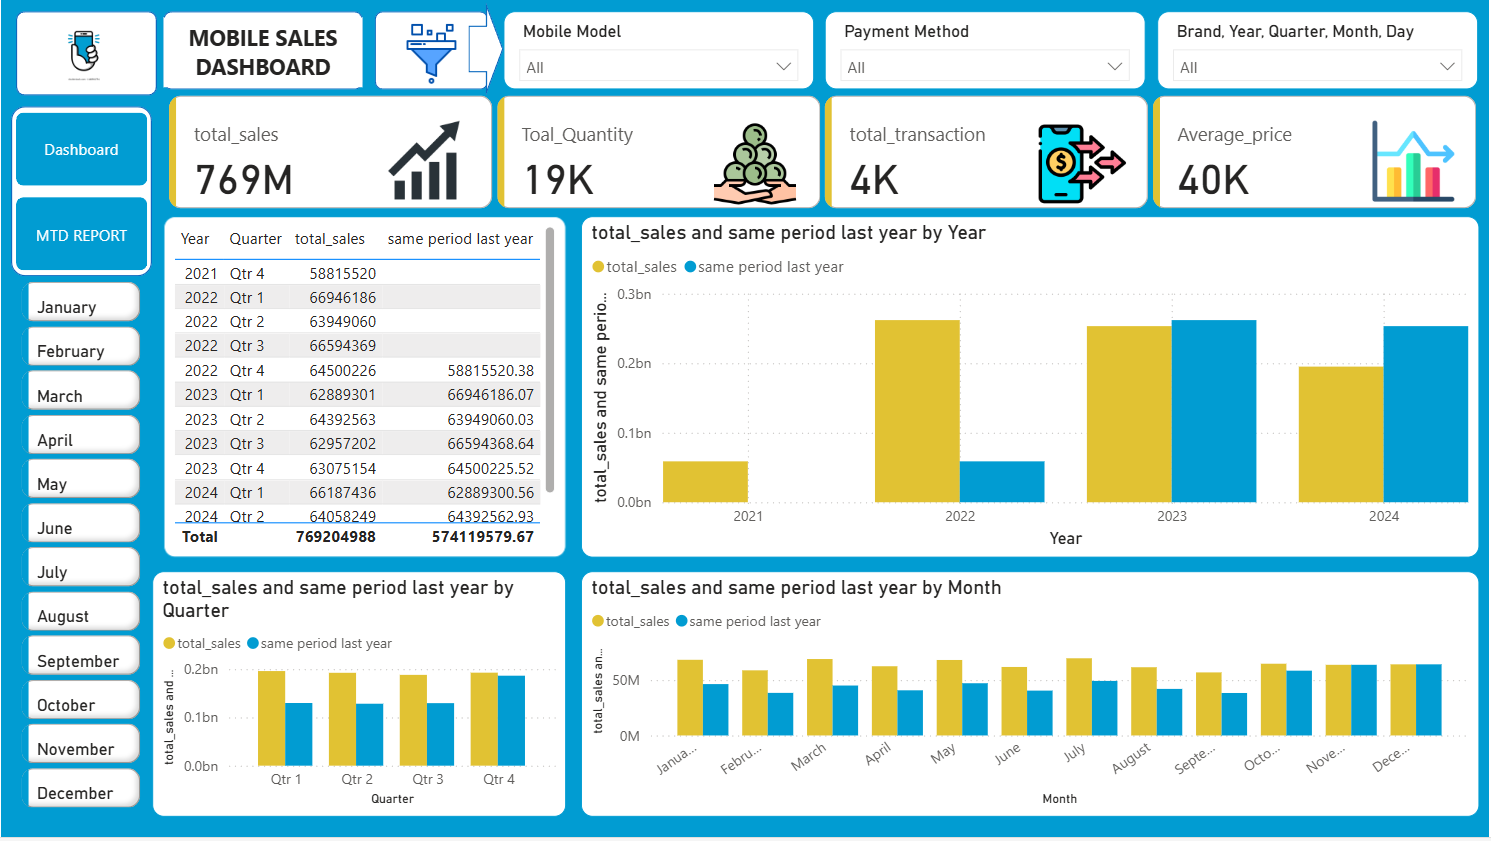

The dashboard page shown, as its layout file describes it:
{"tool":"powerbi","page":{"name":"same period last year","canvas":[1280,720],"ordinal":2},"visuals":[{"type":"shape","box":[12.5,10,121.2,72.5],"z":0},{"type":"image","box":[17.5,16.2,108.8,58.8],"z":1000},{"type":"shape","box":[321.2,10,97.5,67.5],"z":2000},{"type":"cardVisual","fields":{"Data":["mobile sales data.total_sales","mobile sales data.Toal_Quantity","mobile sales data.total_transaction","mobile sales data.Average_price"]},"box":[140,77.5,1137.5,107.5],"z":3000},{"type":"slicer","fields":{"Values":["mobile sales data.Mobile Model"]},"box":[432.5,10,267.5,67.5],"z":4000},{"type":"slicer","fields":{"Values":["mobile sales data.Payment Method"]},"box":[708.8,10,276.2,67.5],"z":5000},{"type":"slicer","fields":{"Values":["mobile sales data.Brand","custom_calender.Date.Variation.Date Hierarchy.Year","custom_calender.Date.Variation.Date Hierarchy.Quarter","custom_calender.Date.Variation.Date Hierarchy.Month","custom_calender.Date.Variation.Date Hierarchy.Day"]},"box":[995,10,276.2,67.5],"z":6000},{"type":"shape","box":[8.8,91.2,121.2,146.2],"z":7000},{"type":"image","box":[321.2,15,97.5,62.5],"z":8000},{"type":"shape","box":[402.5,2.5,30,80],"z":9000},{"type":"shape","box":[140,10,171.2,67.5],"z":10000},{"type":"textbox","box":[140,15,171.2,60],"z":11000},{"type":"advancedSlicerVisual","fields":{"Values":["custom_calender.Date.Variation.Date Hierarchy.Month"]},"box":[12.5,237.5,112.5,463.8],"z":12000},{"type":"tableEx","fields":{"Values":["custom_calender.Date.Variation.Date Hierarchy.Year","custom_calender.Date.Variation.Date Hierarchy.Quarter","mobile sales data.total_sales","mobile sales data.same period last year"]},"box":[140,186.2,346.2,293.8],"z":13000},{"type":"clusteredColumnChart","fields":{"Category":["custom_calender.Date.Variation.Date Hierarchy.Year","custom_calender.Date.Variation.Date Hierarchy.Quarter"],"Y":["mobile sales data.total_sales","mobile sales data.same period last year"]},"box":[498.8,186.2,772.5,293.8],"z":14000},{"type":"clusteredColumnChart","fields":{"Y":["mobile sales data.total_sales","mobile sales data.same period last year"],"Category":["custom_calender.Date.Variation.Date Hierarchy.Year","custom_calender.Date.Variation.Date Hierarchy.Quarter","custom_calender.Date.Variation.Date Hierarchy.Month","custom_calender.Date.Variation.Date Hierarchy.Day"]},"box":[498.8,491.2,772.5,211.2],"z":15000},{"type":"clusteredColumnChart","fields":{"Category":["custom_calender.Date.Variation.Date Hierarchy.Year","custom_calender.Date.Variation.Date Hierarchy.Quarter"],"Y":["mobile sales data.total_sales","mobile sales data.same period last year"]},"box":[130,491.2,356.2,211.2],"z":16000},{"type":"pageNavigator","box":[12.5,96.2,113.8,137.5],"z":16001}]}

Visuals, with their boxes in screenshot pixels (x1, y1, x2, y2), scaled from the page's 1280x720 canvas onto the 1491x841 screenshot:
shape: <region>15, 12, 156, 96</region>
image: <region>20, 19, 147, 88</region>
shape: <region>374, 12, 488, 91</region>
cardVisual - mobile sales data.total_sales x mobile sales data.Toal_Quantity: <region>163, 91, 1488, 216</region>
slicer - mobile sales data.Mobile Model: <region>504, 12, 815, 91</region>
slicer - mobile sales data.Payment Method: <region>826, 12, 1147, 91</region>
slicer - mobile sales data.Brand x custom_calender.Date.Variation.Date Hierarchy.Year: <region>1159, 12, 1481, 91</region>
shape: <region>10, 107, 151, 277</region>
image: <region>374, 18, 488, 91</region>
shape: <region>469, 3, 504, 96</region>
shape: <region>163, 12, 362, 91</region>
textbox: <region>163, 18, 362, 88</region>
advancedSlicerVisual - custom_calender.Date.Variation.Date Hierarchy.Month: <region>15, 277, 146, 819</region>
tableEx - custom_calender.Date.Variation.Date Hierarchy.Year x custom_calender.Date.Variation.Date Hierarchy.Quarter: <region>163, 217, 566, 561</region>
clusteredColumnChart - custom_calender.Date.Variation.Date Hierarchy.Year x custom_calender.Date.Variation.Date Hierarchy.Quarter: <region>581, 217, 1481, 561</region>
clusteredColumnChart - mobile sales data.total_sales x mobile sales data.same period last year: <region>581, 574, 1481, 820</region>
clusteredColumnChart - custom_calender.Date.Variation.Date Hierarchy.Year x custom_calender.Date.Variation.Date Hierarchy.Quarter: <region>151, 574, 566, 820</region>
pageNavigator: <region>15, 112, 147, 273</region>
